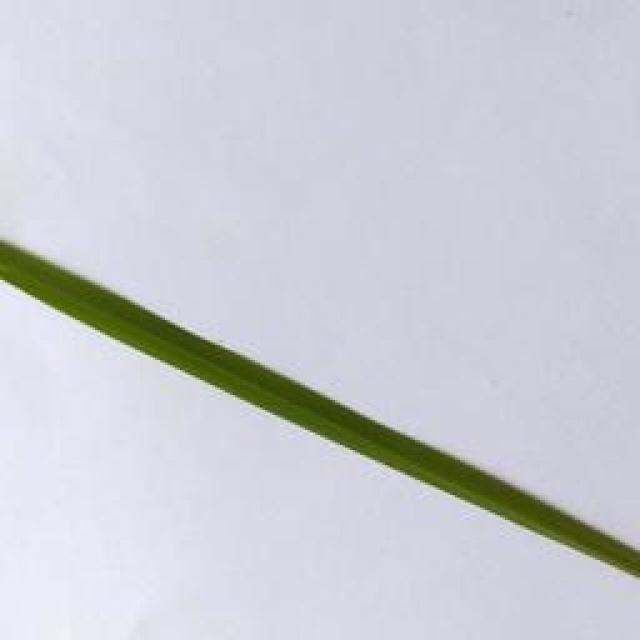Healthy-Plant: (0, 241, 640, 580)
